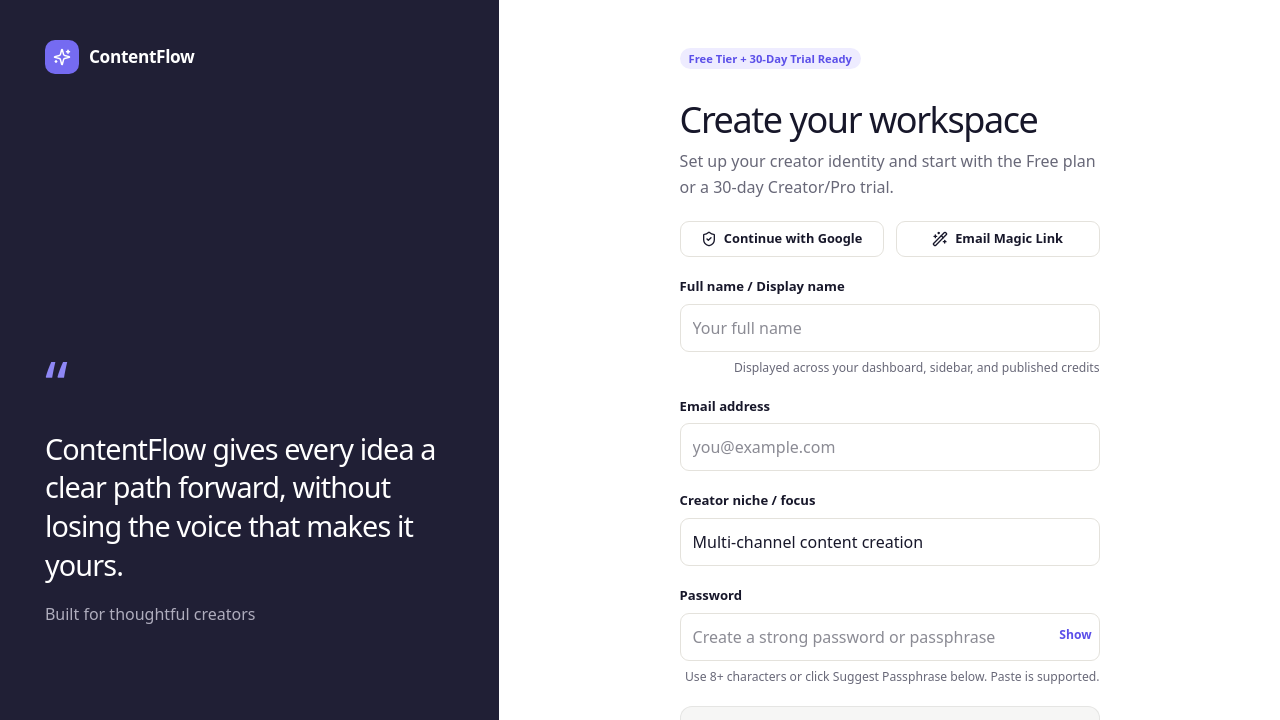
ContentFlow Production Screens (Zero Demo Artifacts & Real API Wiring) › validates AuthScreen email on blur then live after error and toggles password visibility
Expected: the number of headings is 1, 680,101 -> 1100,140
Step 1. Type "invalid-email" into the field labelled "Email address" → {"x": 890, "y": 448}, box 680,424 -> 1100,472
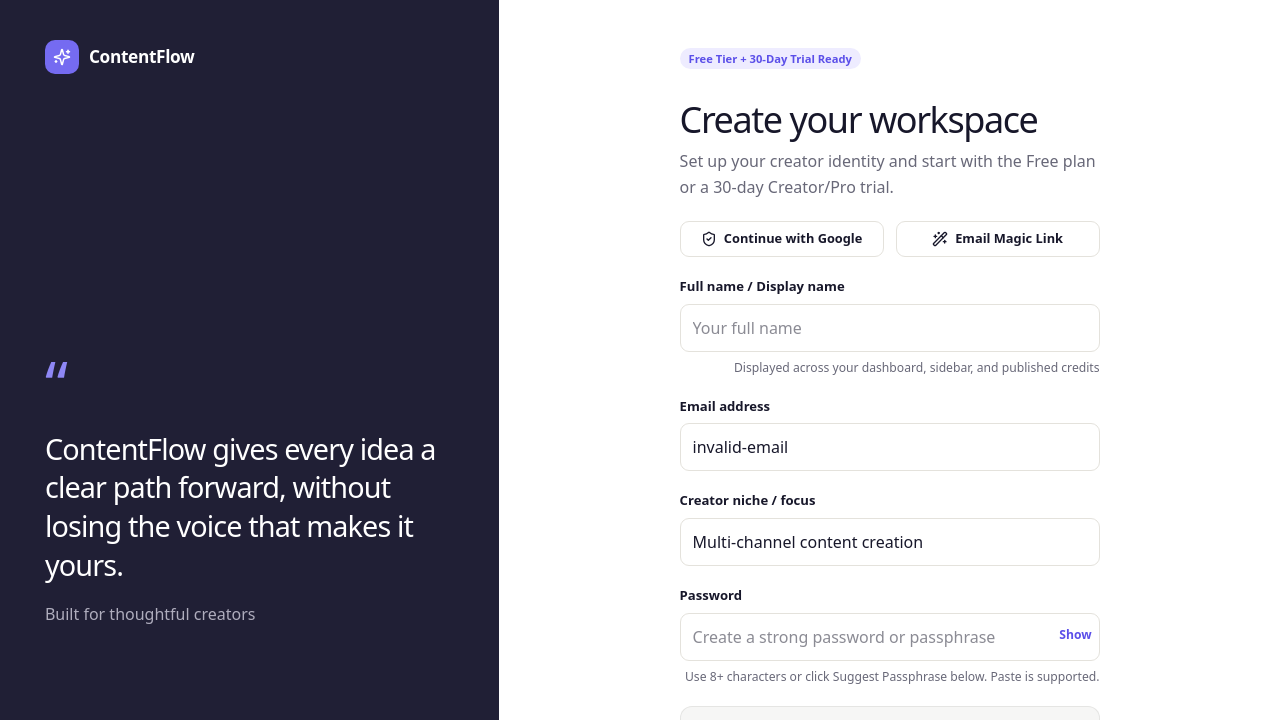
Step 2. Leave the field labelled "Email address", box 680,424 -> 1100,472
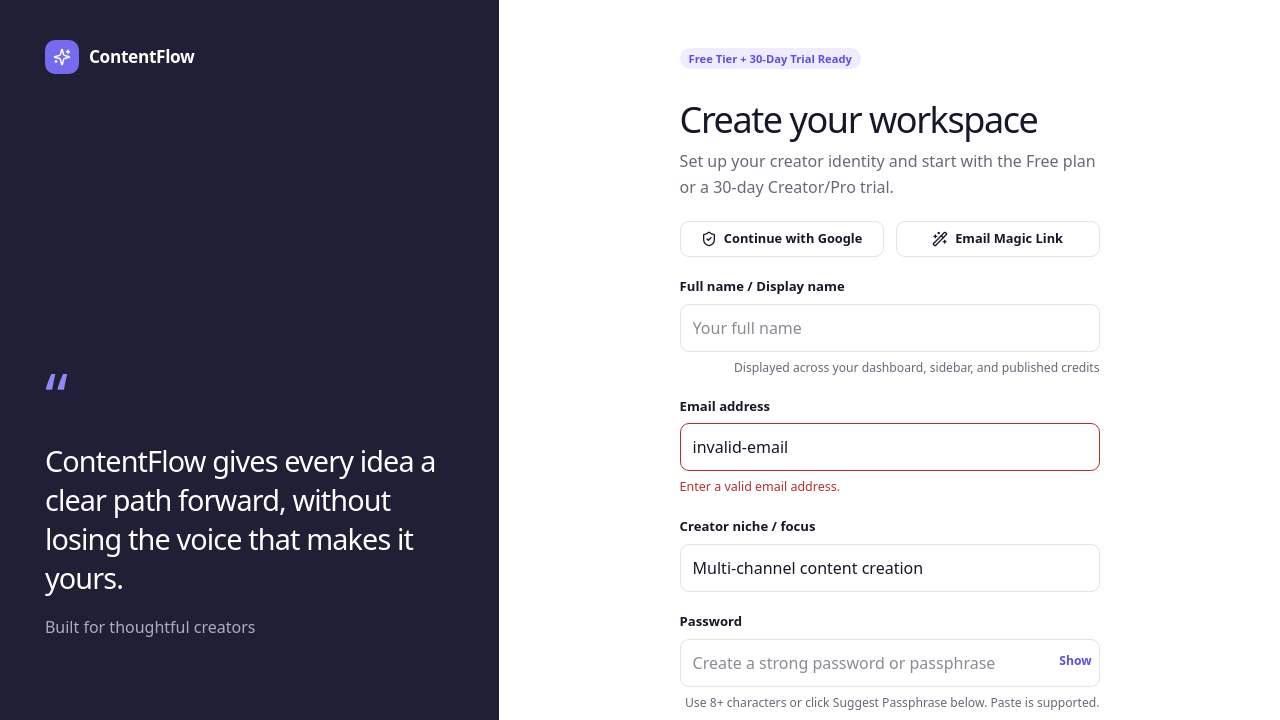
Now the text "Enter a valid email address." is shown, box 680,478 -> 840,496
Step 3. Replace the text in the field labelled "Email address Enter a valid email address." with "creator@contentflow.app" → {"x": 890, "y": 448}, box 680,424 -> 1100,472
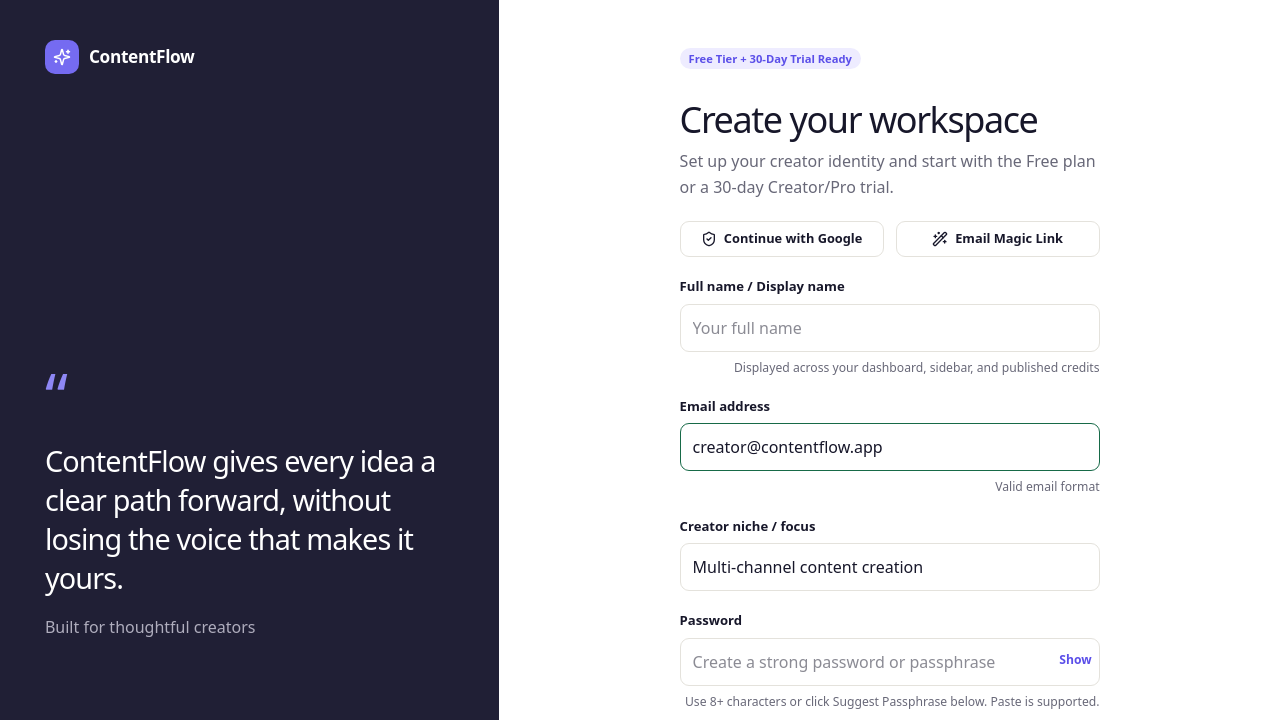
Now the text "Enter a valid email address" is gone
Step 4. Click the button "Show" → {"x": 1075, "y": 660}, box 1059,642 -> 1092,678
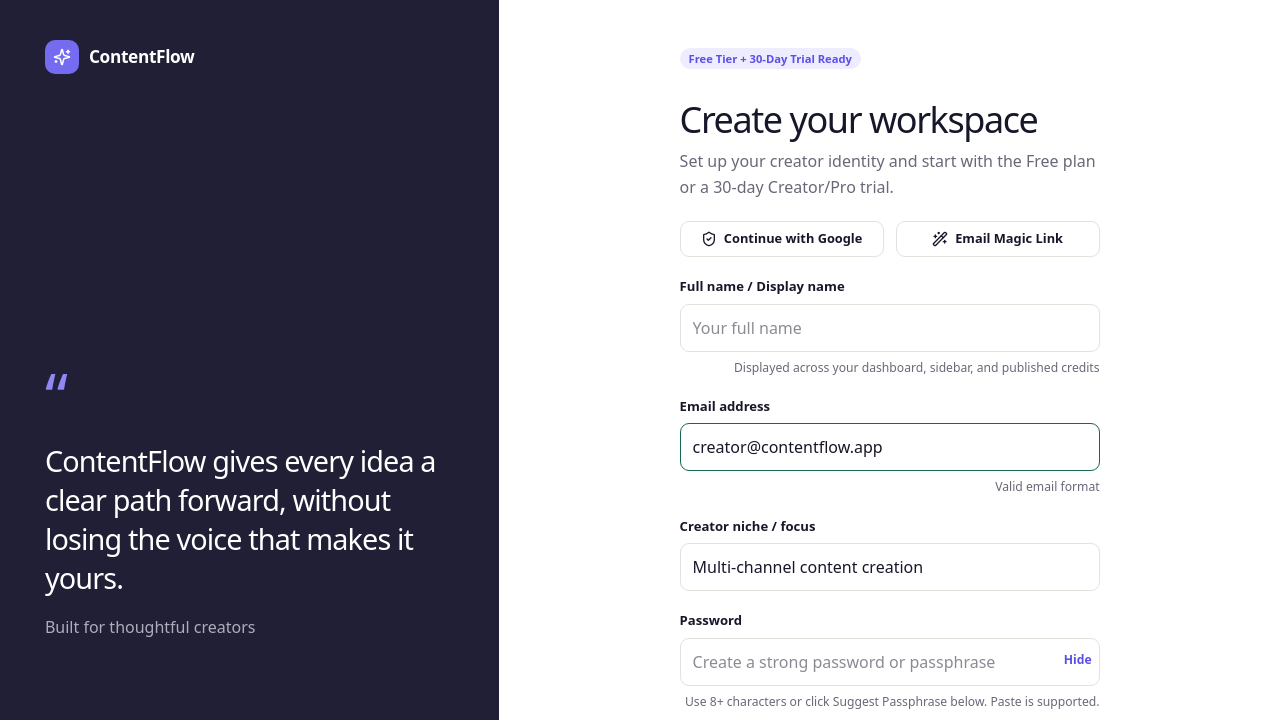
Now the button "Hide" is shown, box 1064,642 -> 1092,678
